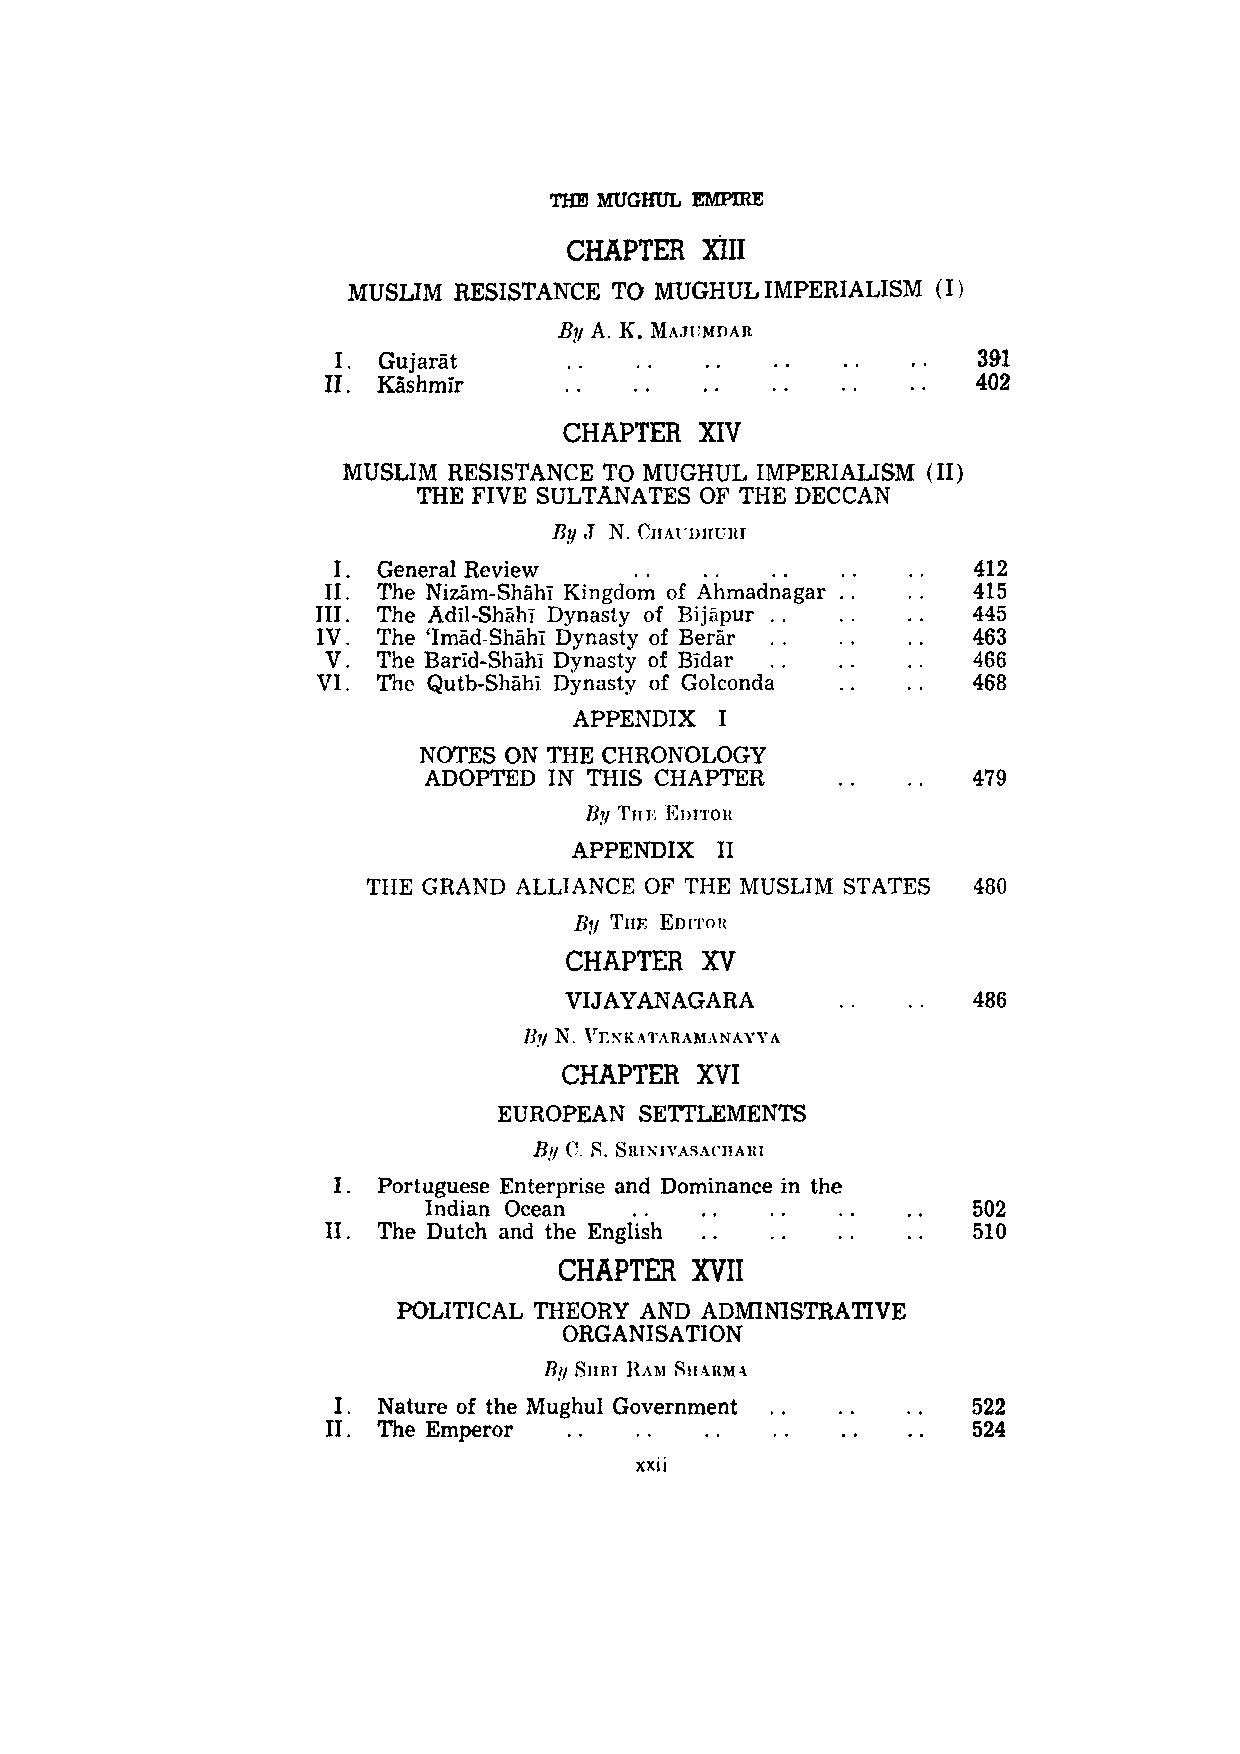TOC_chapter: (340, 419, 972, 548), (338, 234, 968, 346), (395, 1256, 913, 1386), (484, 1060, 807, 1164), (519, 942, 785, 1048), (329, 1166, 854, 1219), (420, 742, 766, 790), (360, 874, 937, 898), (322, 577, 829, 603), (325, 1388, 743, 1414), (315, 670, 778, 692), (311, 603, 758, 625), (321, 1219, 672, 1245), (311, 625, 735, 647), (322, 648, 738, 670), (570, 829, 742, 864), (319, 1418, 517, 1447), (329, 552, 544, 576), (327, 340, 464, 372), (572, 702, 733, 727), (322, 370, 468, 396)
TOC_pagenumber: (968, 764, 1011, 789), (970, 644, 1011, 668), (972, 871, 1009, 896), (973, 986, 1011, 1012), (974, 370, 1013, 395), (970, 1190, 1006, 1216), (970, 552, 1008, 576), (972, 1390, 1006, 1416), (973, 345, 1012, 366), (973, 1217, 1006, 1241), (972, 670, 1009, 691), (973, 578, 1009, 600), (973, 1417, 1009, 1439), (973, 624, 1006, 643), (973, 604, 1008, 619)
chapter: (544, 187, 770, 211)
